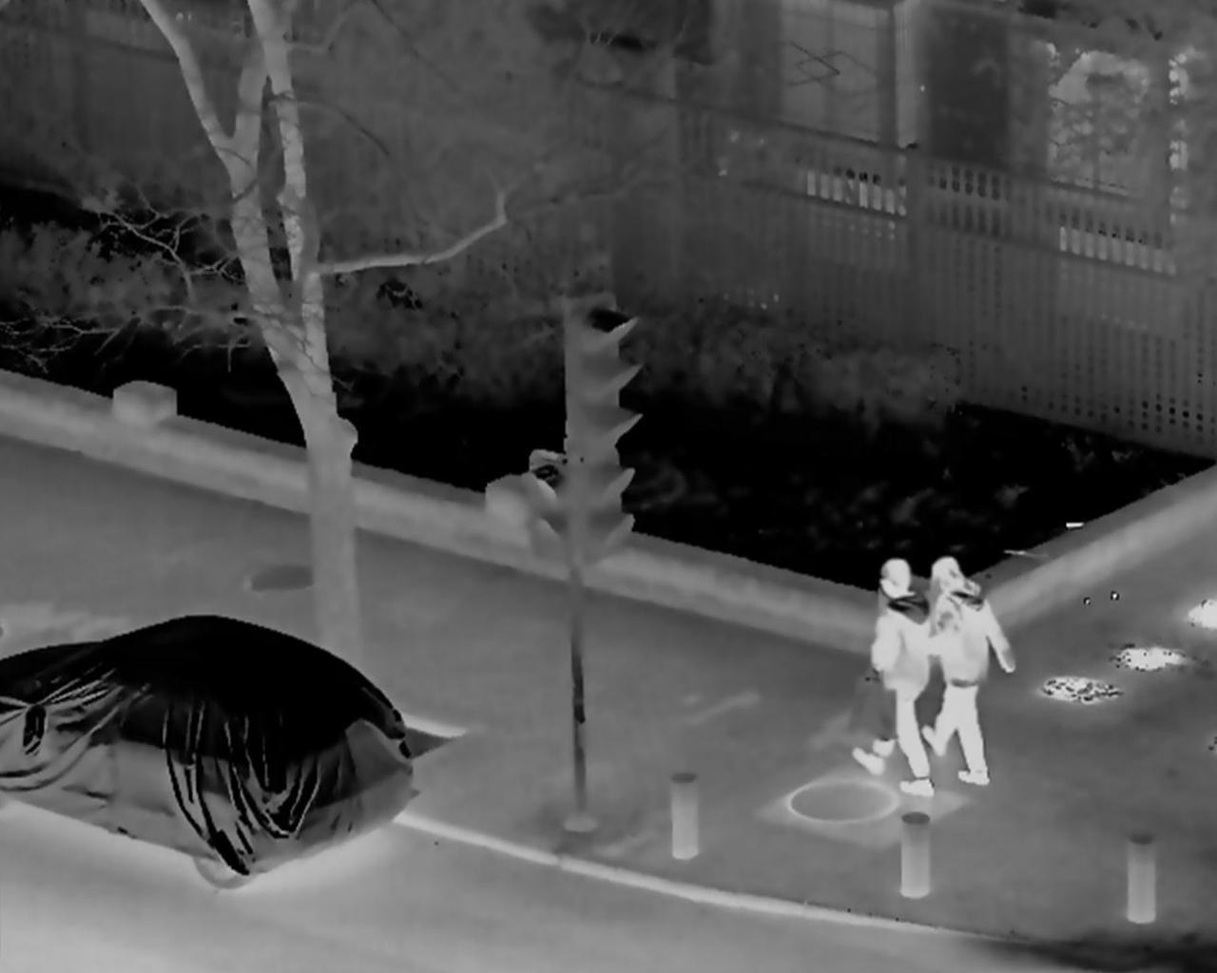person: (918, 556, 1020, 787), (843, 559, 939, 802)
